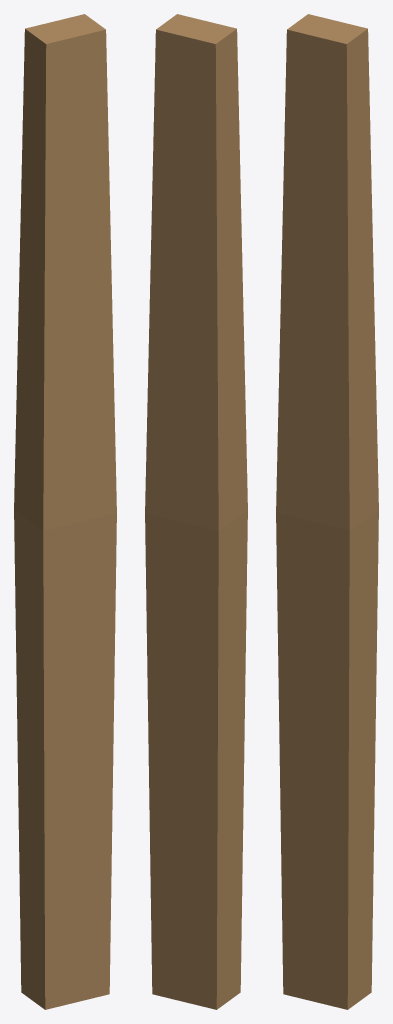
Rendered from prop-carpenter-hatchet-handle-ht1.fbx.
The picture shows the model from 3 angles, left to right: view 1: azimuth 30°, elevation 25°; view 2: azimuth 150°, elevation 25°; view 3: azimuth 330°, elevation 25°; orthographic projection.
Parts seen in each view (by area): view 1: prop-carpenter-hatchet-handle-ht1; view 2: prop-carpenter-hatchet-handle-ht1; view 3: prop-carpenter-hatchet-handle-ht1.
Part boxes in pixels (x1,y1,x2,y2): prop-carpenter-hatchet-handle-ht1: (14, 14, 116, 1009); prop-carpenter-hatchet-handle-ht1: (145, 14, 247, 1009); prop-carpenter-hatchet-handle-ht1: (276, 14, 378, 1009).
Bounding box in the file's own units: 0.032 × 0.4 × 0.022.
